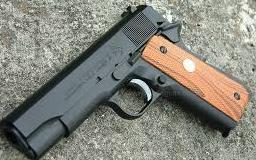gun: (1, 1, 256, 160)
